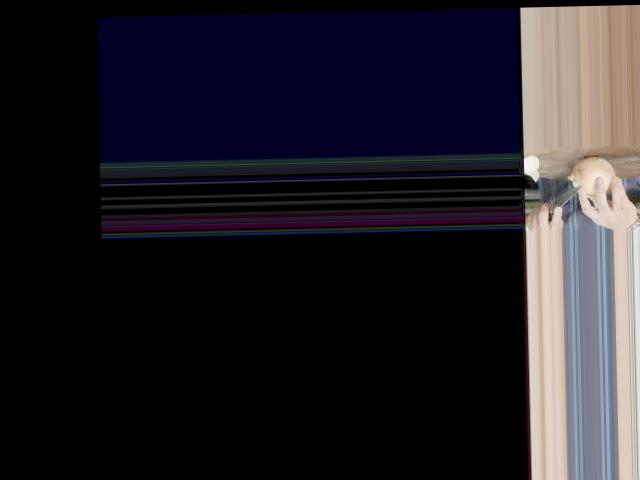onion: (570, 159, 618, 197)
